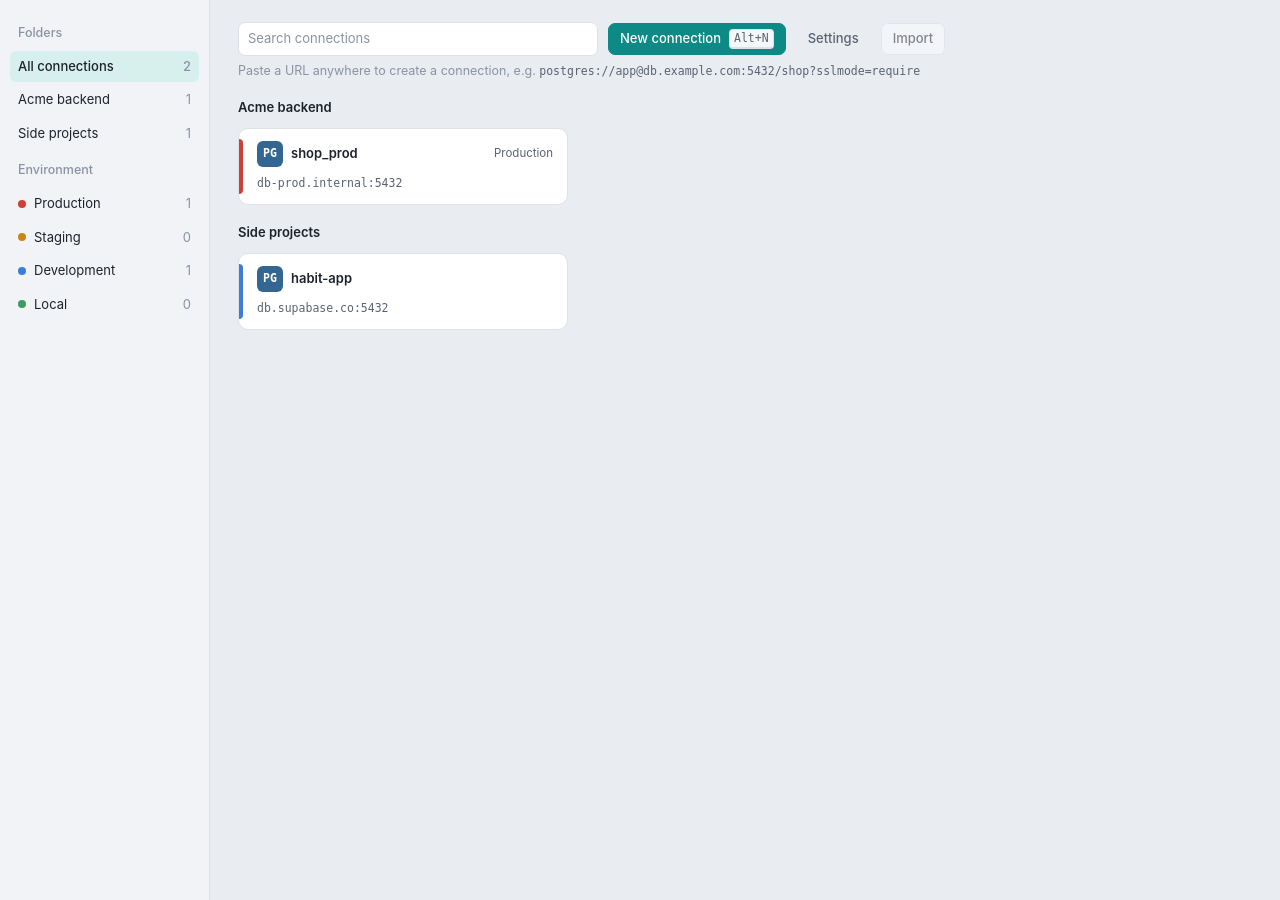
Scenario: ConnectionsScreen › deletes after confirm in modal
This screenshot has width=1280, height=900.
Right-click the button "PG shop_prod Production db-prod.internal:5432" at (324, 153), box x1=238 y1=128 x2=568 y2=205
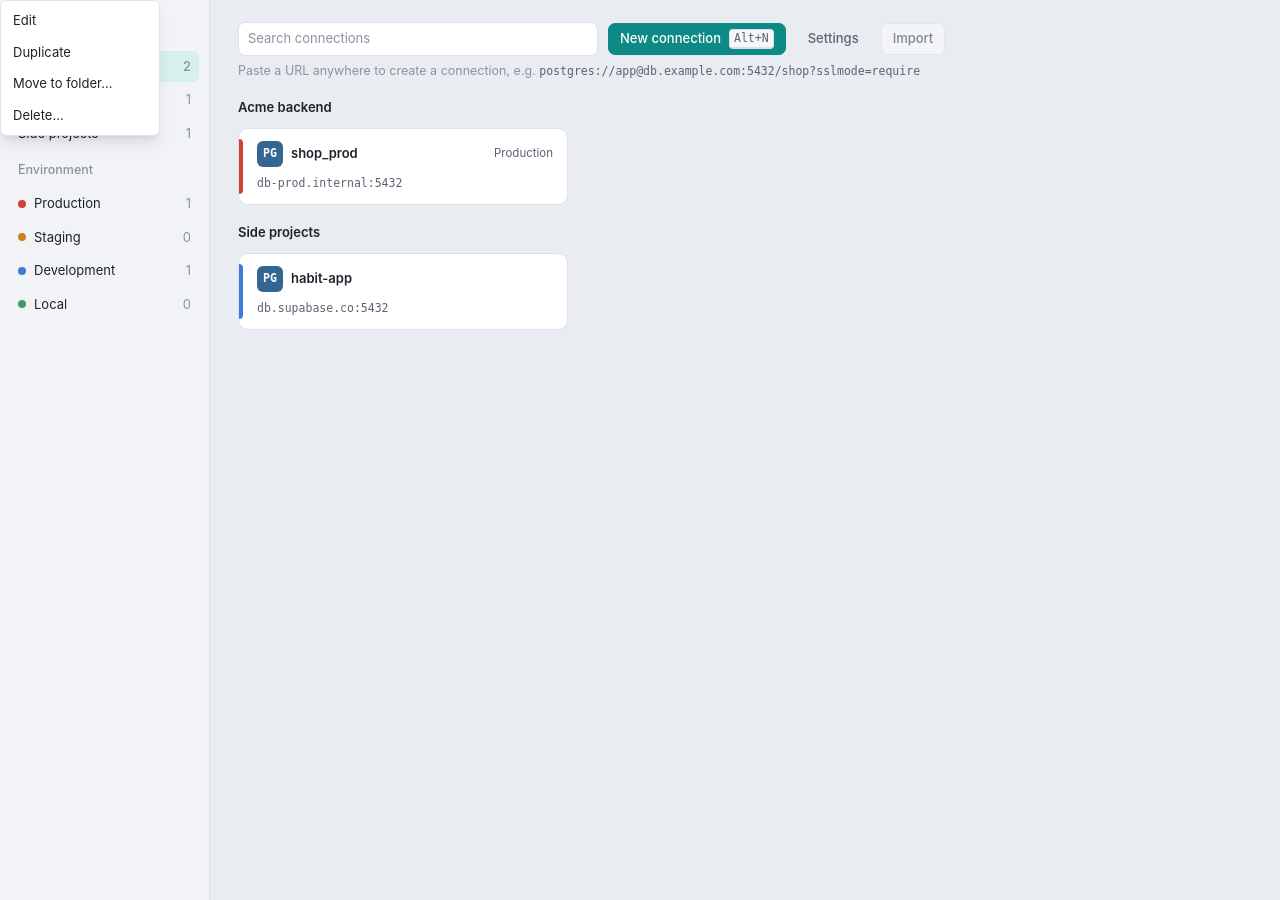
Click the menu item "Delete…" at (80, 115), box x1=1 y1=100 x2=159 y2=131
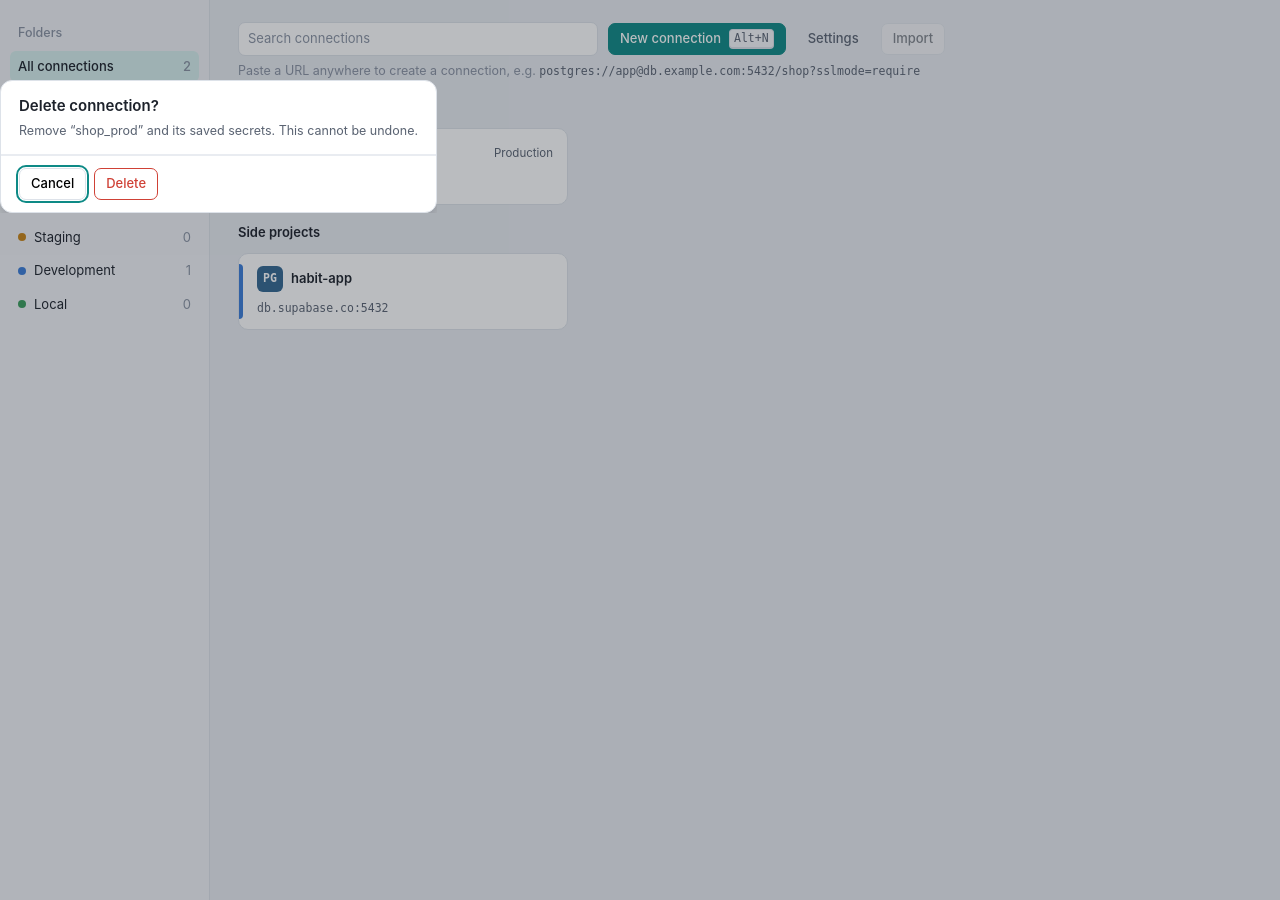
Click the button "Delete" at (126, 184), box x1=94 y1=168 x2=158 y2=200
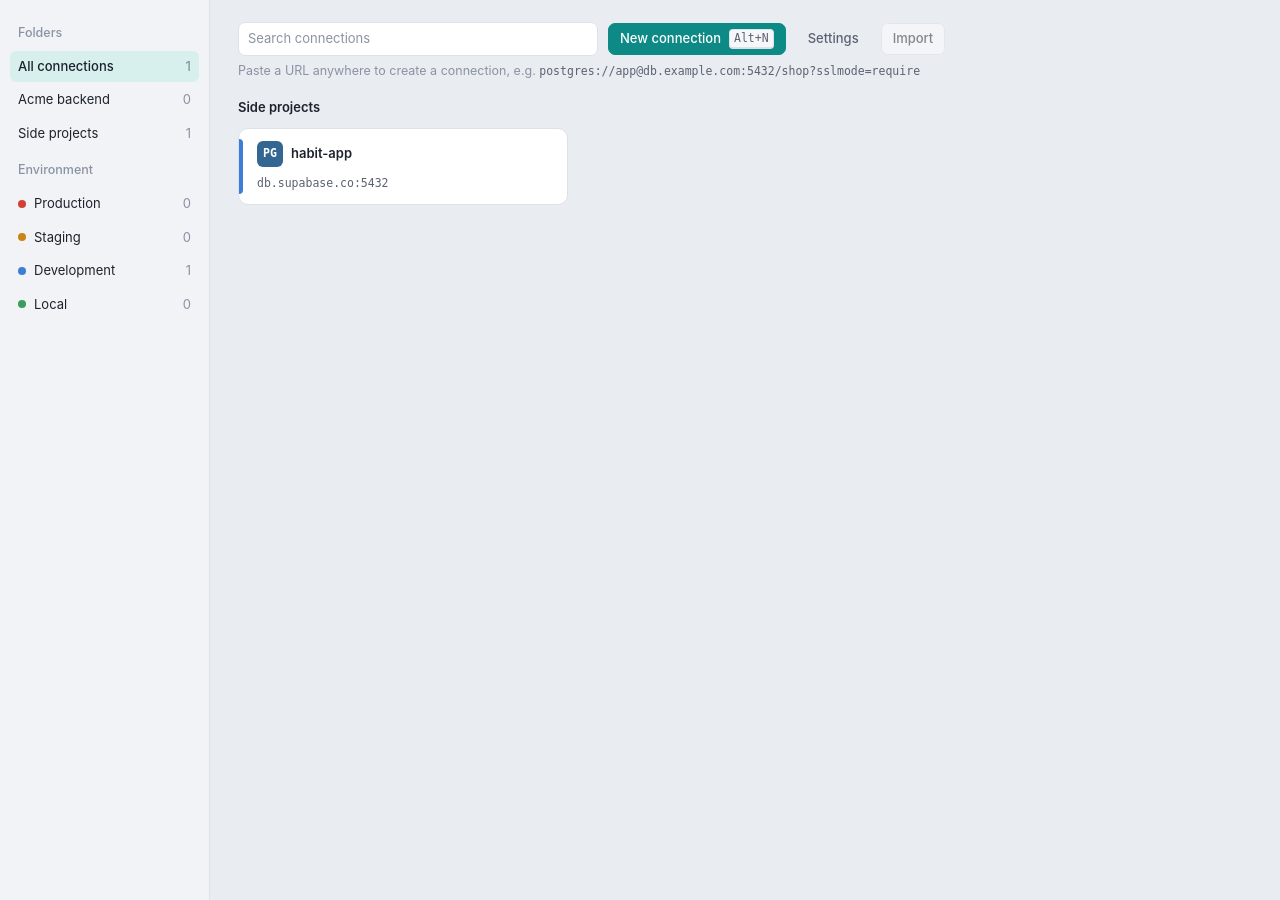
Expected: the text "habit-app" is shown, x1=291 y1=144 x2=352 y2=164
Result: the button "shop_prod" is gone
